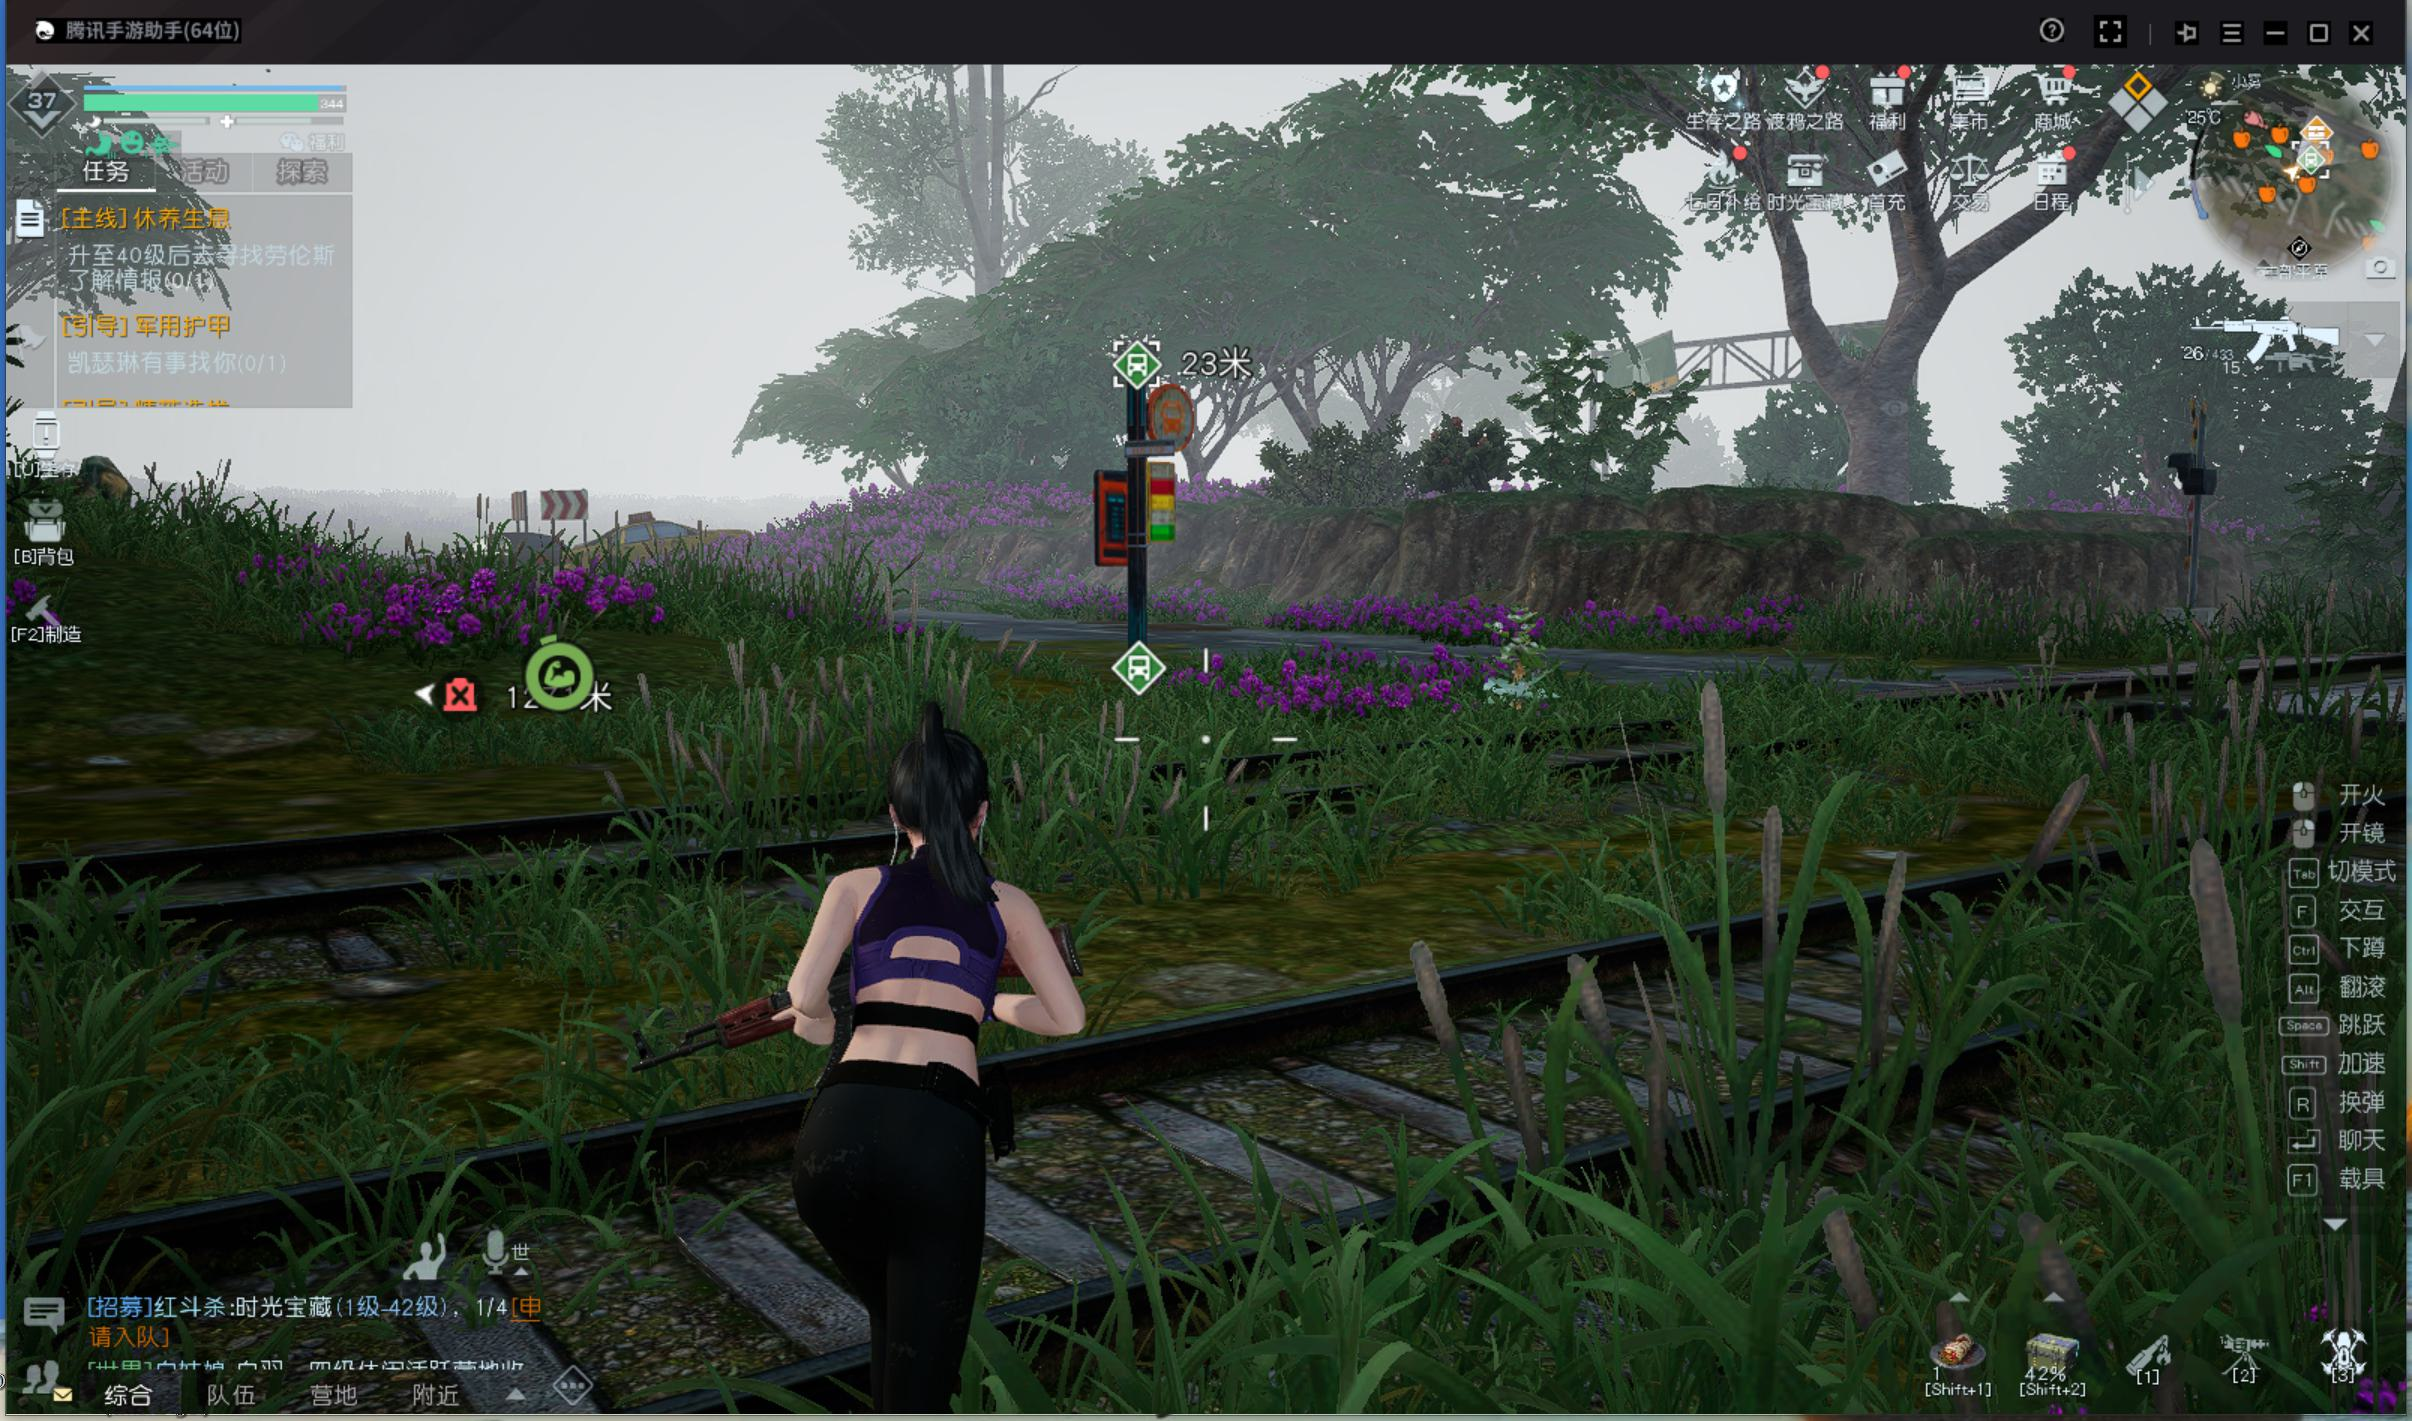tree: (1810, 352, 1949, 519)
